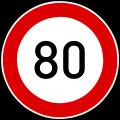Speed Limit -80-: (30, 36, 89, 83)
